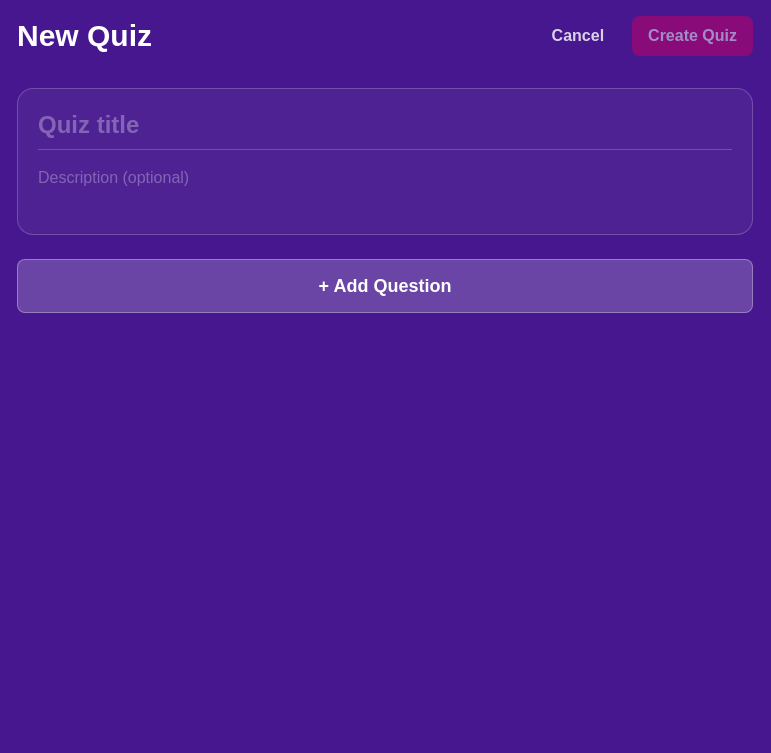
Test: QuizCreator — create mode › adds a question when Add Question is clicked
The image size is (771, 753).
Click the button "+ Add Question".
click(385, 286)  # box [17,259,753,313]
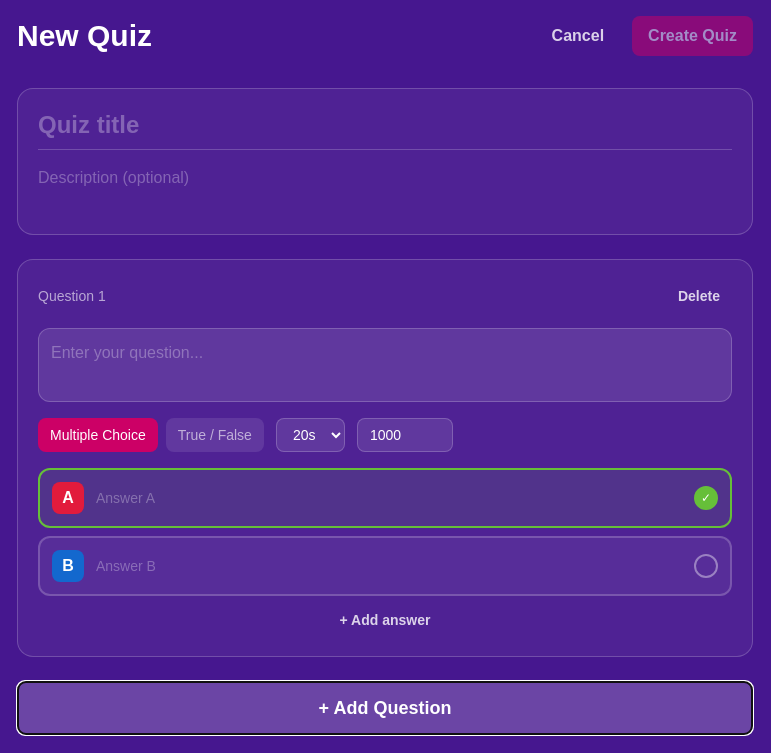
Result: the text "Question 1" is shown at [38,286,106,306]
